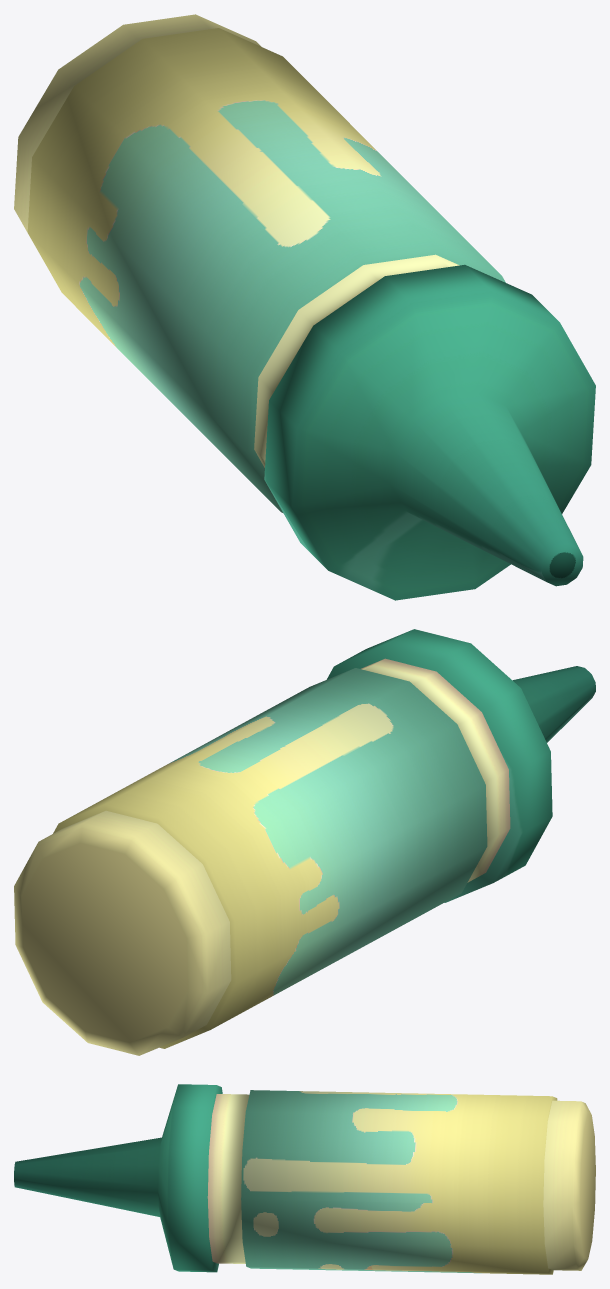
Rendered from Oil.fbx.
3 renders of one model, top to bottom at view 1: azimuth 30°, elevation 25°; view 2: azimuth 150°, elevation 25°; view 3: azimuth 270°, elevation 25°, orthographic. The views are drawn at different scales.
Parts seen in each view (by area): view 1: Oil; view 2: Oil; view 3: Oil.
Boxes of the visible parts, x1,y1,x2,y2 form: Oil: (14, 14, 595, 600); Oil: (14, 629, 595, 1055); Oil: (14, 1084, 595, 1274).
Size of the model in its own units: 23 by 20.08 by 60.64.
